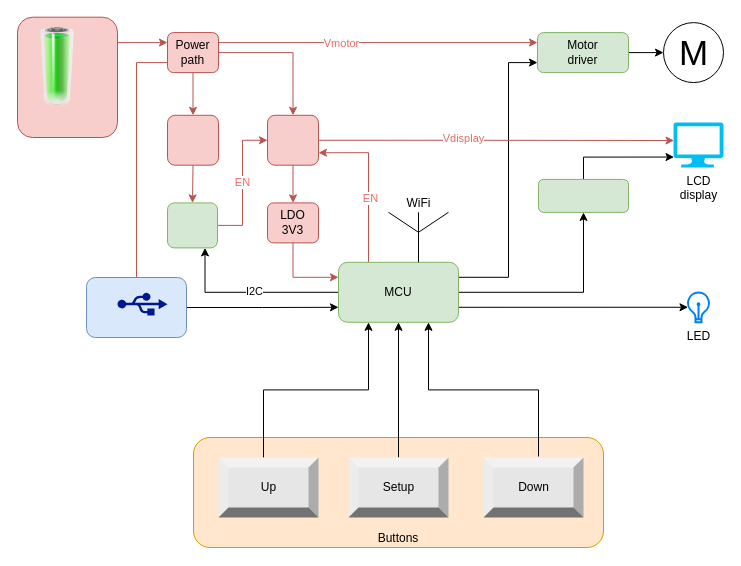
Image size: 741x566. Some labels were removed from this diagram. Each missing label, with the box of its shape:
I2C level translator: (538, 178, 628, 212)
LDO 5V, high Iout: (266, 114, 318, 165)
LDO low Iq: (166, 114, 218, 165)
Power input: (16, 16, 118, 138)
RTC: (166, 202, 218, 248)
USB-C: (86, 276, 186, 338)
